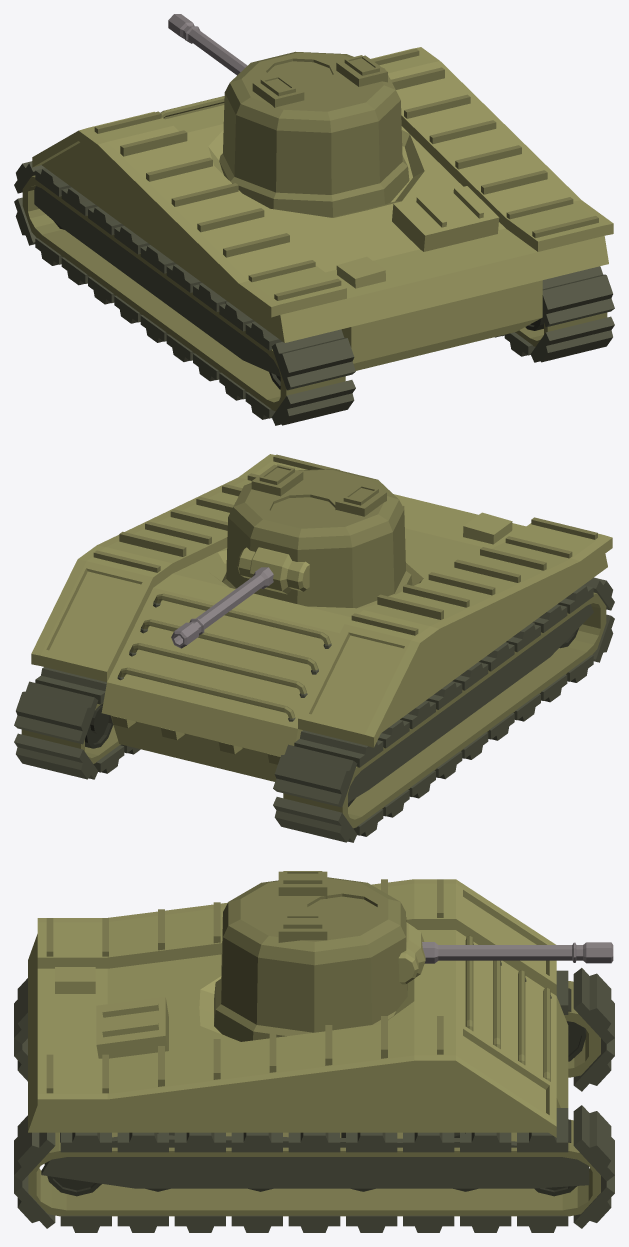
The model's file is tank_base.glb.
The picture shows the model from 3 angles, top to bottom: view 1: azimuth 30°, elevation 25°; view 2: azimuth 150°, elevation 25°; view 3: azimuth 270°, elevation 25°; orthographic projection. The views are drawn at different scales.
Parts seen in each view (by area): view 1: Hull, Turret; view 2: Hull, Turret; view 3: Hull, Turret.
Part boxes in pixels (bbox=[...]): Hull: bbox=[14, 47, 614, 425]; Turret: bbox=[168, 14, 409, 217]; Hull: bbox=[14, 454, 614, 842]; Turret: bbox=[171, 464, 412, 648]; Hull: bbox=[14, 879, 614, 1232]; Turret: bbox=[214, 871, 613, 1041].
Bounding box in the file's own units: 3.15 × 2.01 × 4.4.
